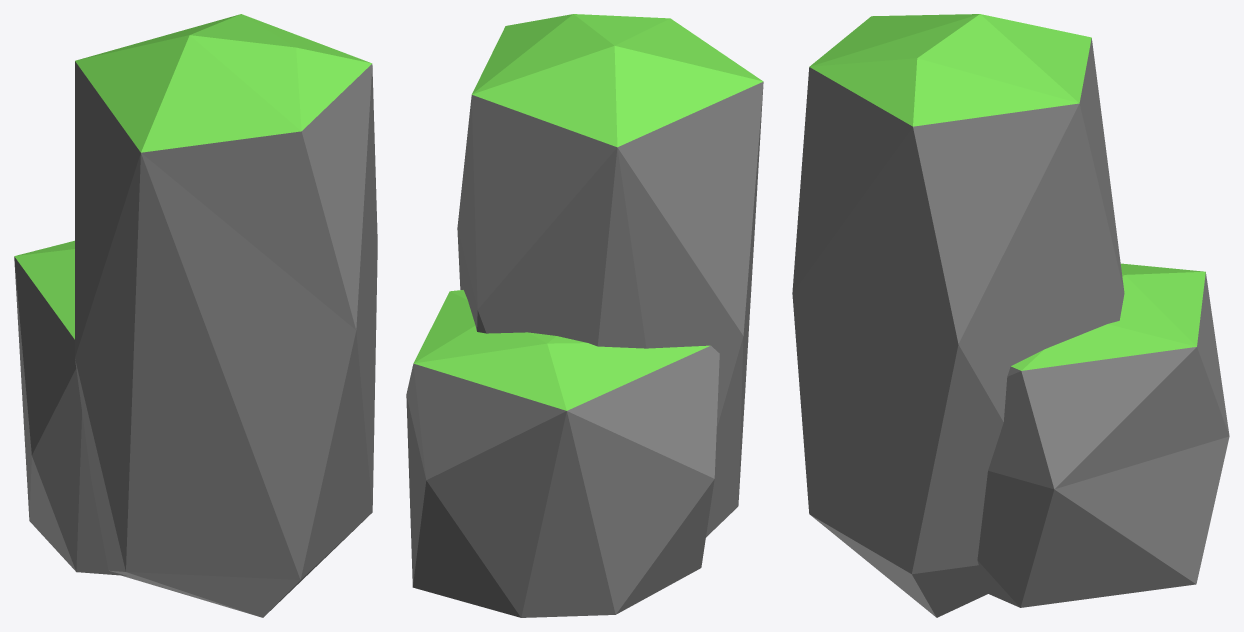
Rendered from Cliff_2.fbx.
3 views of the same model, side by side, from view 1: azimuth 30°, elevation 25°; view 2: azimuth 150°, elevation 25°; view 3: azimuth 270°, elevation 25° (orthographic). The views are drawn at different scales.
Visible parts, largest first — view 1: Cliff_2; view 2: Cliff_2; view 3: Cliff_2.
Part boxes in pixels (x1,y1,x2,y2): Cliff_2: (14,14,377,617); Cliff_2: (406,14,763,617); Cliff_2: (792,14,1229,617).
Size of the model in its own units: 217 by 382 by 261.
